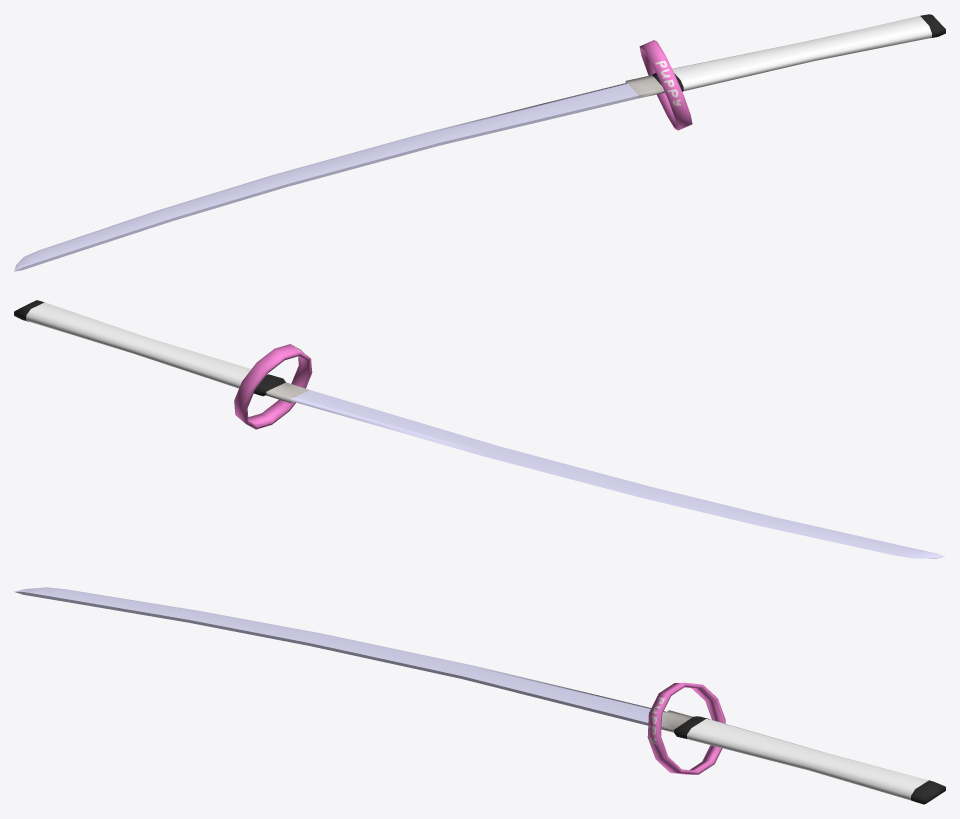
Rendered from katana.glb.
The picture shows the model from 3 angles, top to bottom: view 1: azimuth 30°, elevation 25°; view 2: azimuth 150°, elevation 25°; view 3: azimuth 330°, elevation 25°; orthographic projection.
Visible parts, largest first — view 1: katana, collar; view 2: katana, collar; view 3: katana, collar.
Boxes of the visible parts, <box> form: katana: <box>14,14,945,271</box>; collar: <box>639,40,692,130</box>; katana: <box>14,300,945,558</box>; collar: <box>234,344,312,429</box>; katana: <box>14,587,945,804</box>; collar: <box>647,682,725,774</box>.
Size of the model in its own units: 4.4 by 0.3827 by 0.3818.
5 materials, 1 textured.
